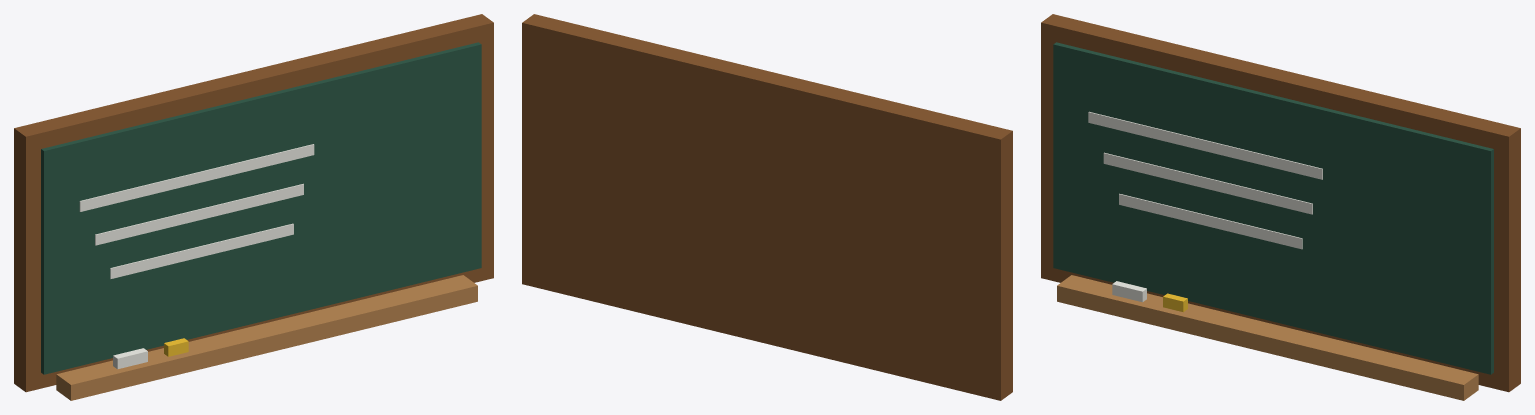
Rendered from blackboard.glb.
3 views of the same model, side by side, from view 1: azimuth 30°, elevation 25°; view 2: azimuth 150°, elevation 25°; view 3: azimuth 330°, elevation 25° (orthographic). The views are drawn at different scales.
Visible parts, largest first — view 1: blackboard; view 2: blackboard; view 3: blackboard.
Part boxes in pixels (x1,y1,x2,y2): blackboard: (14, 14, 493, 400); blackboard: (522, 14, 1012, 400); blackboard: (1041, 14, 1520, 400).
Size of the model in its own units: 0.92 by 0.49 by 0.09.
1 material, 1 textured.
